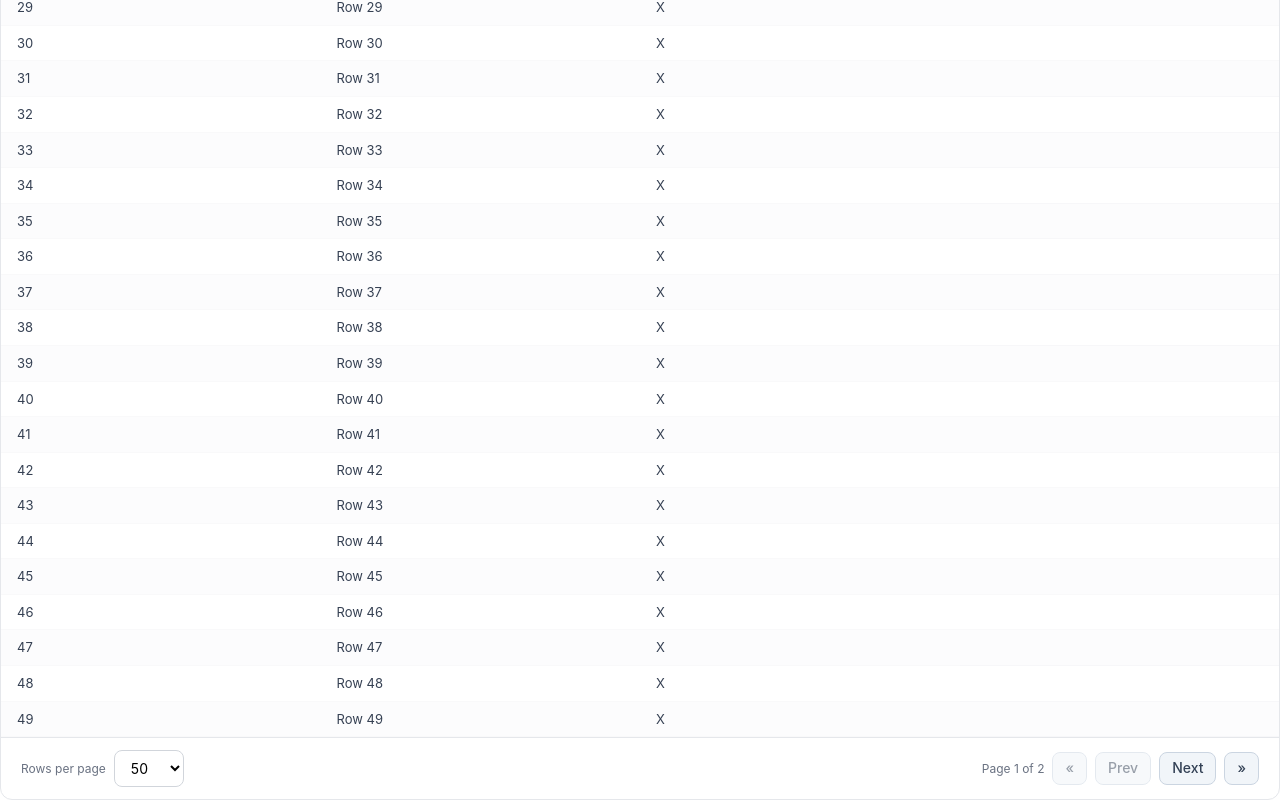
Test case: ResultsTable.vue › paginates when row count exceeds page size
(page scrolled)
What coordinates should you click on to do the following:
click the button "Next"
I would click on:
 (1188, 769)
Its box is x1=1159 y1=752 x2=1216 y2=785.
(page scrolled)
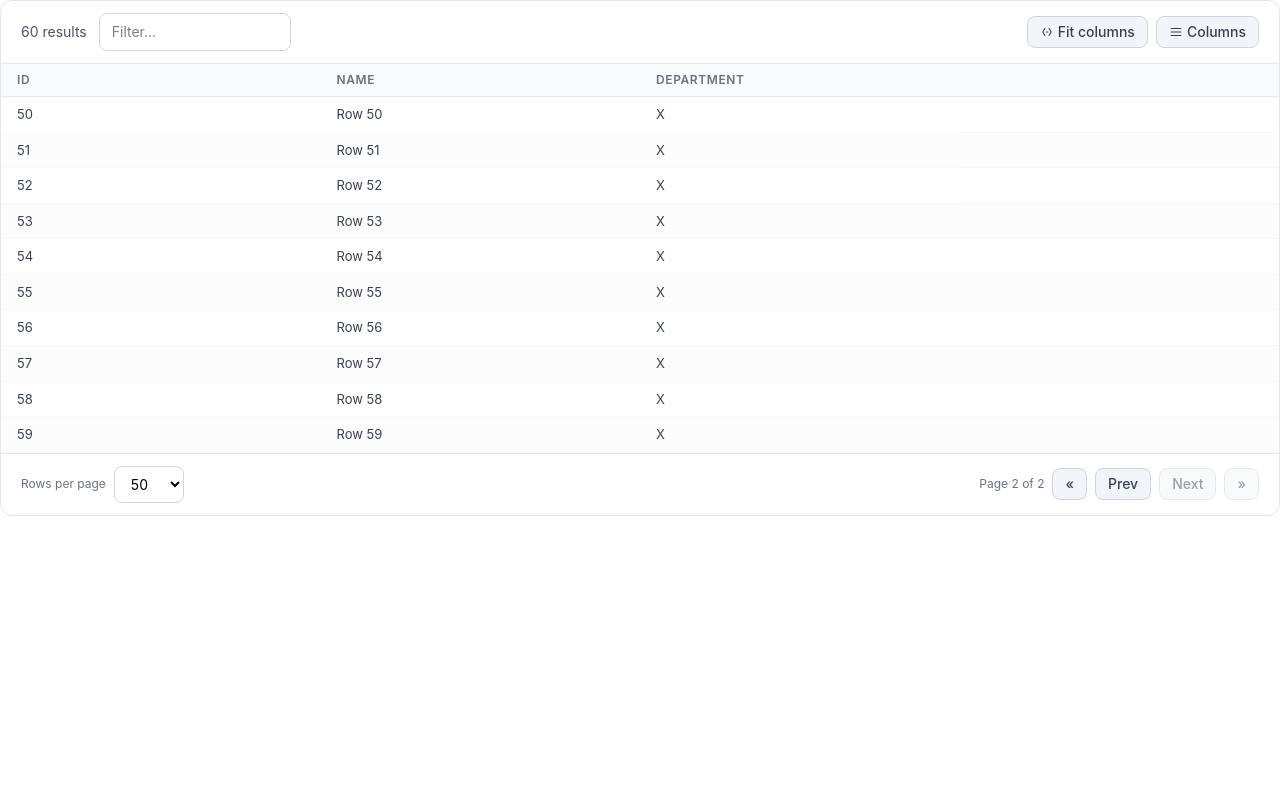
Now the text "Page 2 of 2" is shown, box x1=979 y1=476 x2=1044 y2=492
